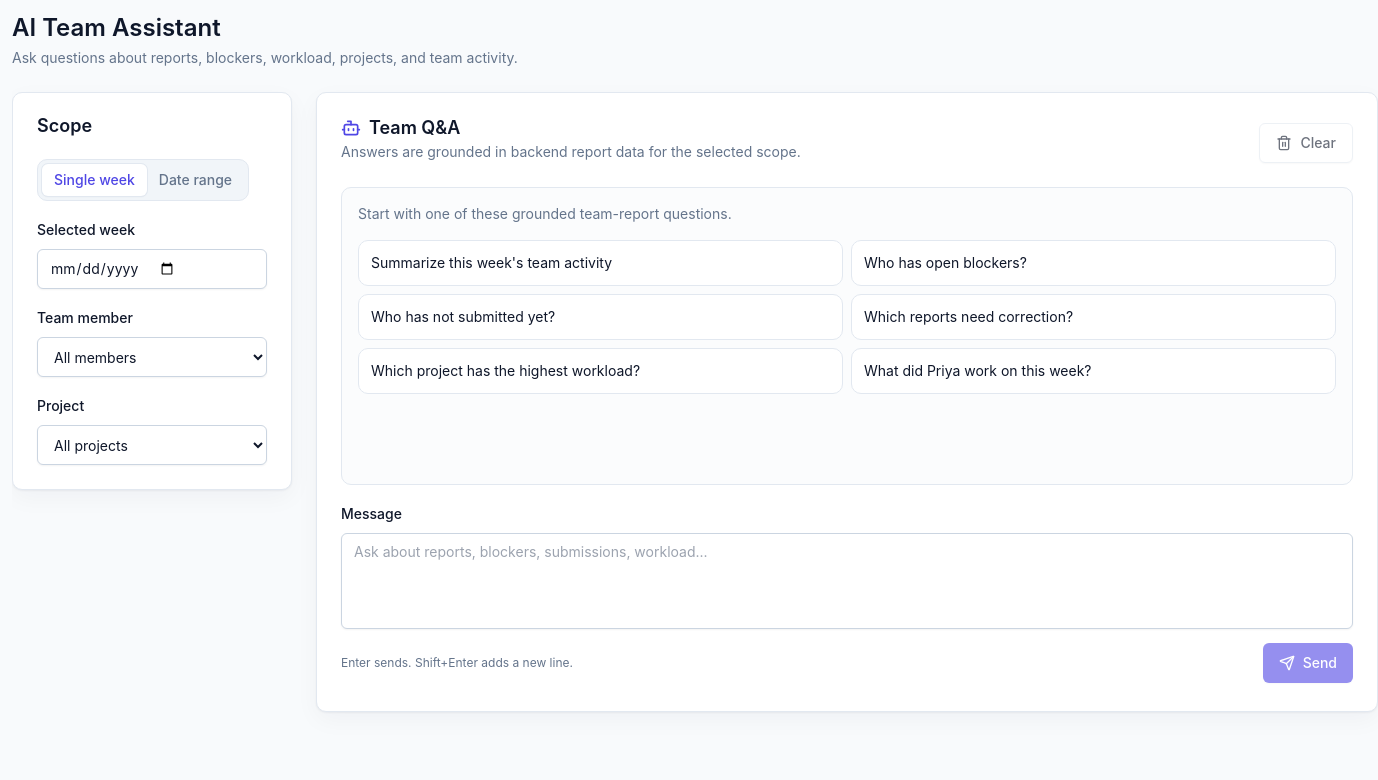
ManagerAiAssistantPage › renders rate-limit errors and preserves the prompt for retry
Type "Who has open blockers?" into the text box labelled "Message" at (847, 581), box [341,533,1353,629]
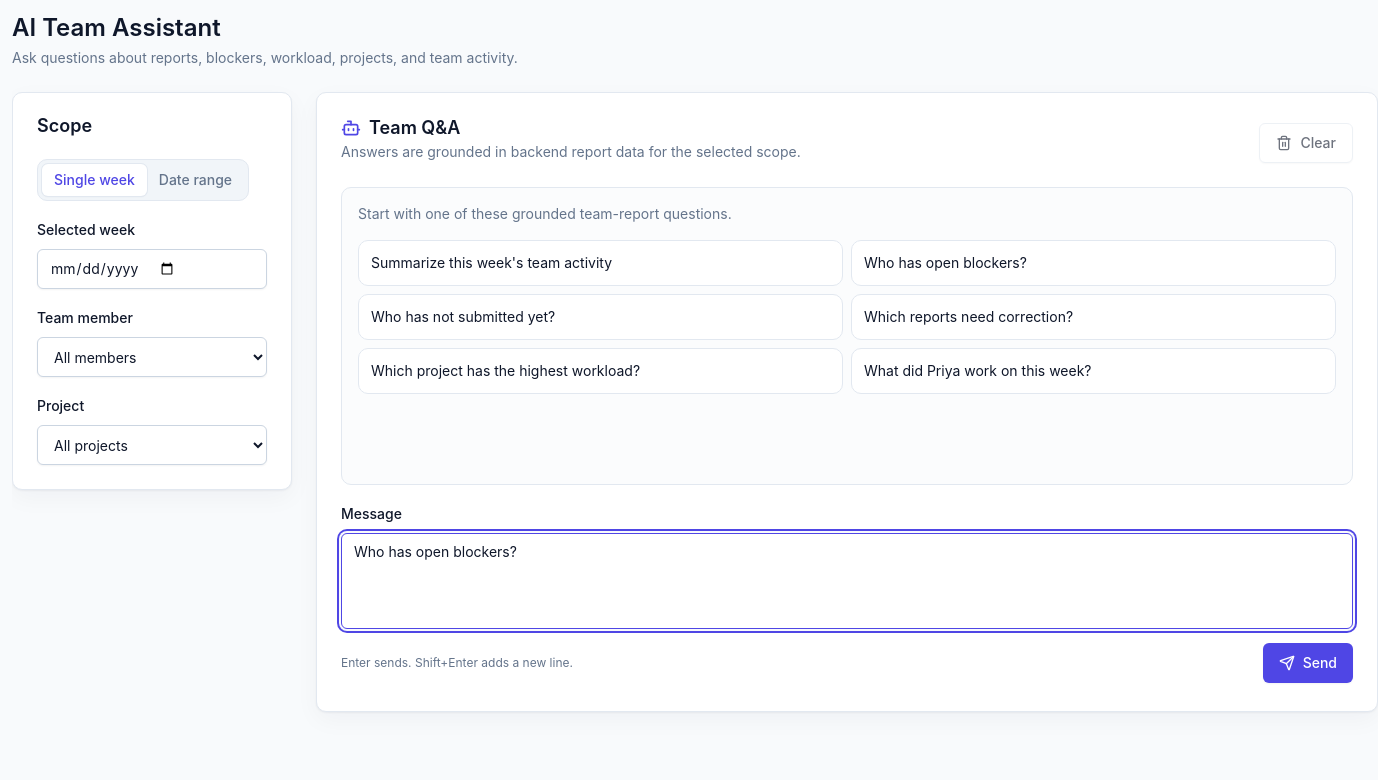
Click the button "Send" at (1308, 663), box [1263,643,1353,683]
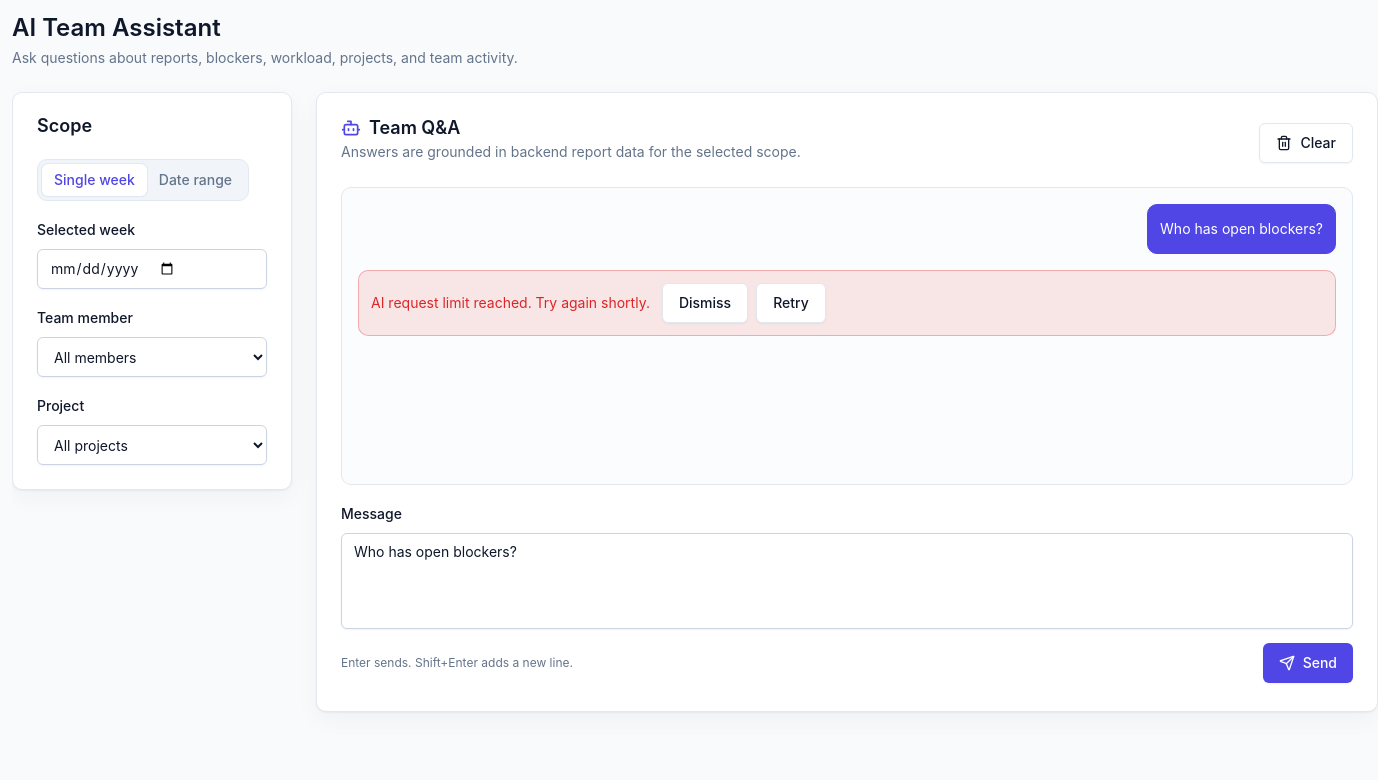
Now the text "AI request limit reached. Try again shortly." is shown, box [371,294,650,311]
Now the button "Retry" is shown, box [756,283,826,323]
